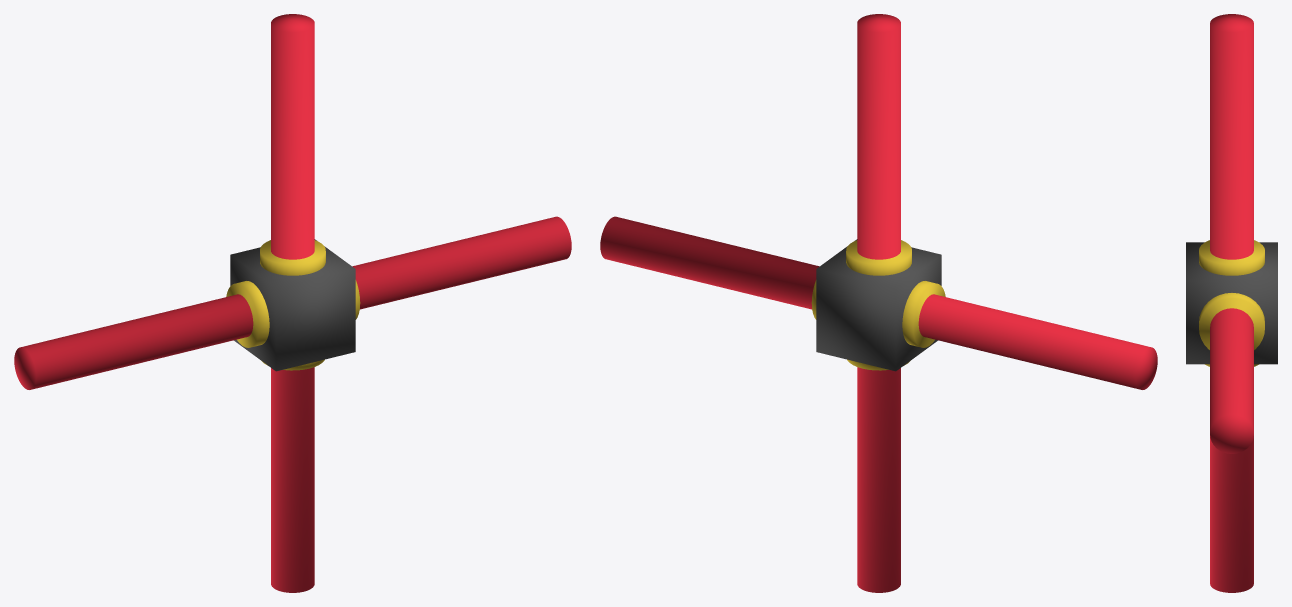
The model's file is vint.fbx.
The picture shows the model from 3 angles, left to right: view 1: azimuth 30°, elevation 25°; view 2: azimuth 150°, elevation 25°; view 3: azimuth 270°, elevation 25°; orthographic projection.
Visible parts, largest first — view 1: Куб; view 2: Куб; view 3: Куб.
Part boxes in pixels (box(x1,y1,x2,y2)): Куб: box(14, 14, 571, 592); Куб: box(600, 14, 1157, 592); Куб: box(1186, 14, 1277, 592).
Size of the model in its own units: 1360 by 1360 by 200.
